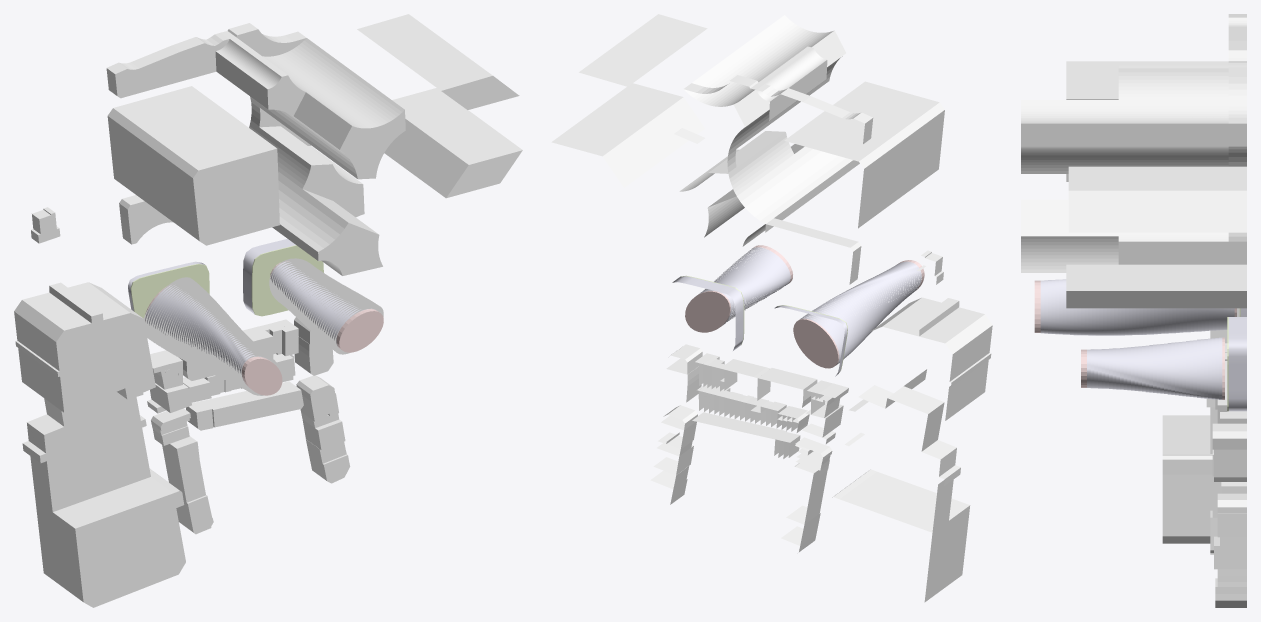
The model's file is aframe_test_model1.gltf.
3 renders of one model, left to right at view 1: azimuth 30°, elevation 25°; view 2: azimuth 150°, elevation 25°; view 3: azimuth 270°, elevation 25°, orthographic. The views are drawn at different scales.
Size of the model in its own units: 423 by 485 by 185.
